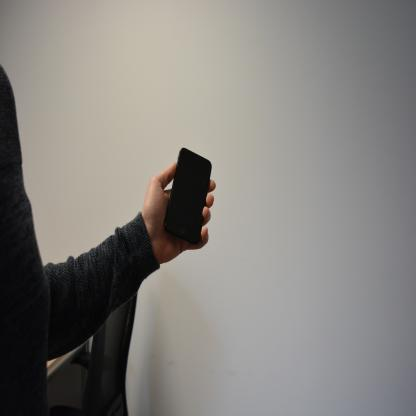smartphone: (163, 147, 212, 246)
